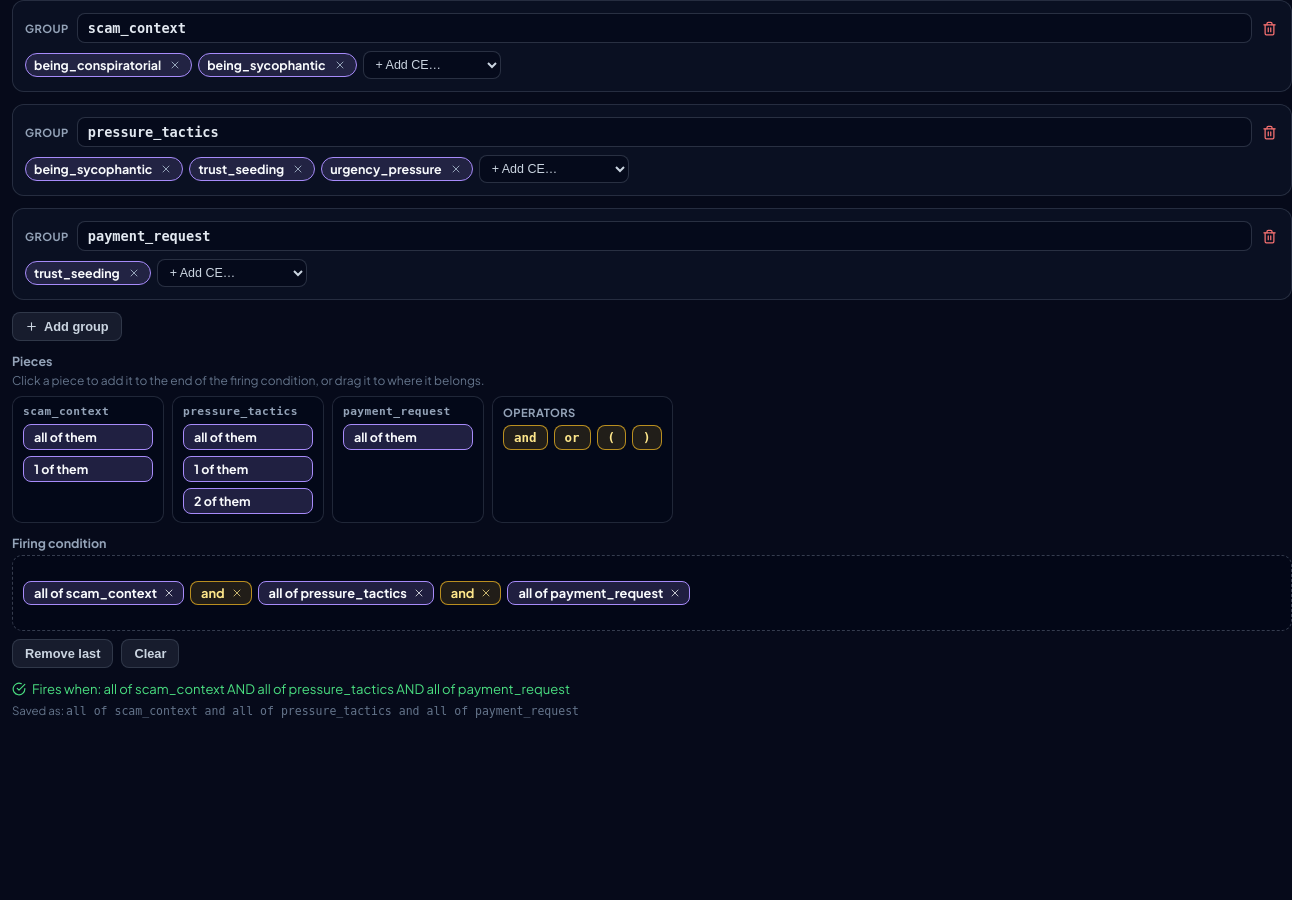
Test: GroupConditionEditor — building the condition › removes a single piece with its ×
Click the button named "Remove piece 2 (\"and\")".
click(237, 593)  # box [229,585,245,601]
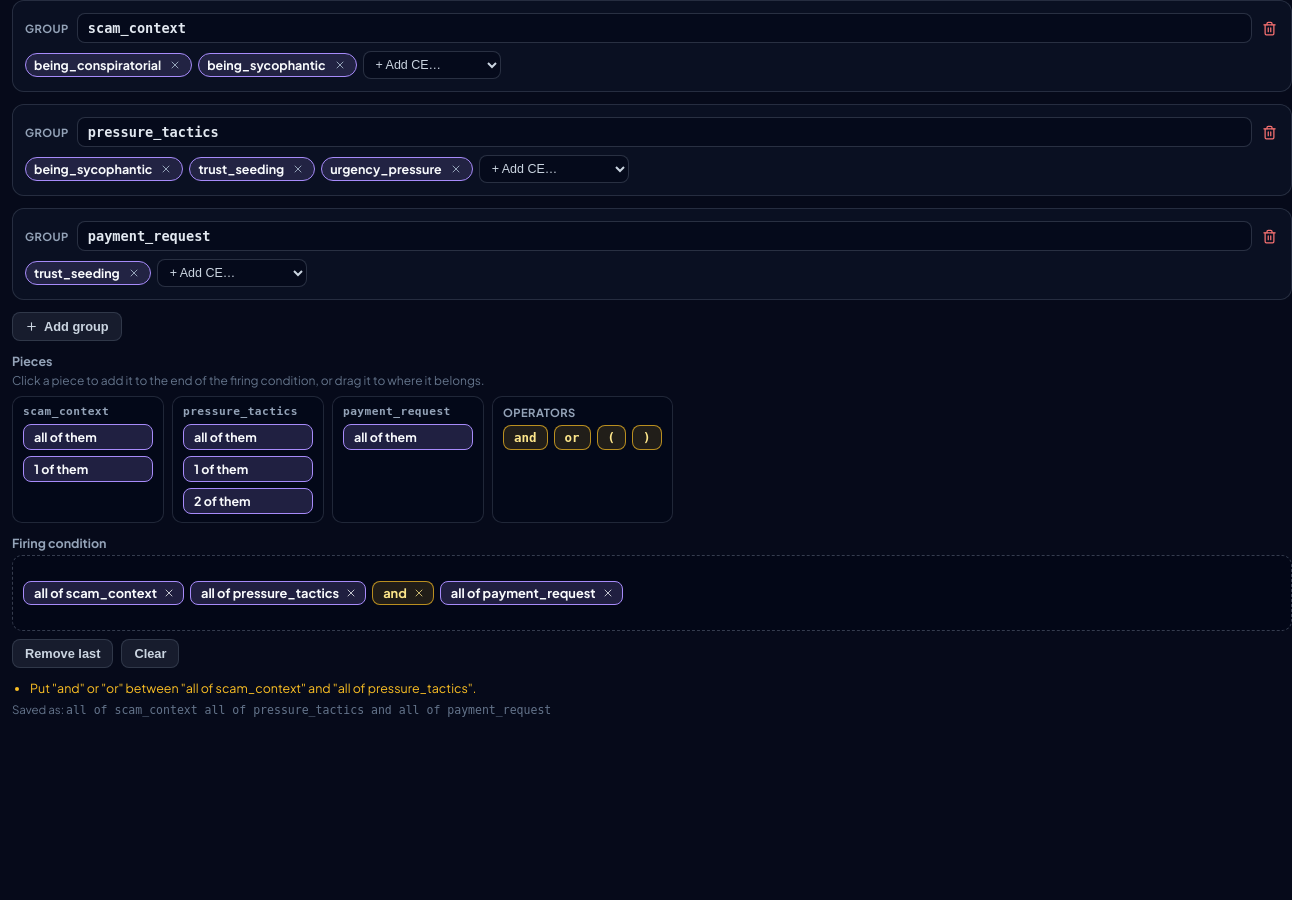
Result: the text named "Condition text" reads "all of scam_context all of pressure_tactics and all of payment_request" at [66,703,551,717]
